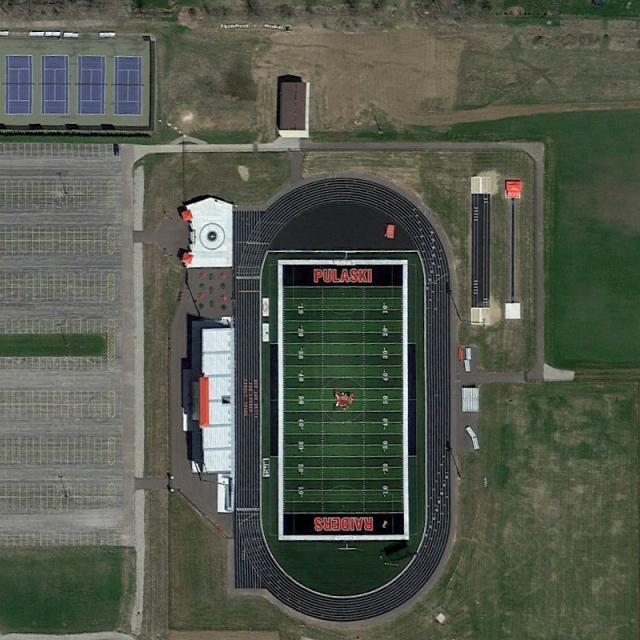vehicle: (114, 144, 119, 155)
